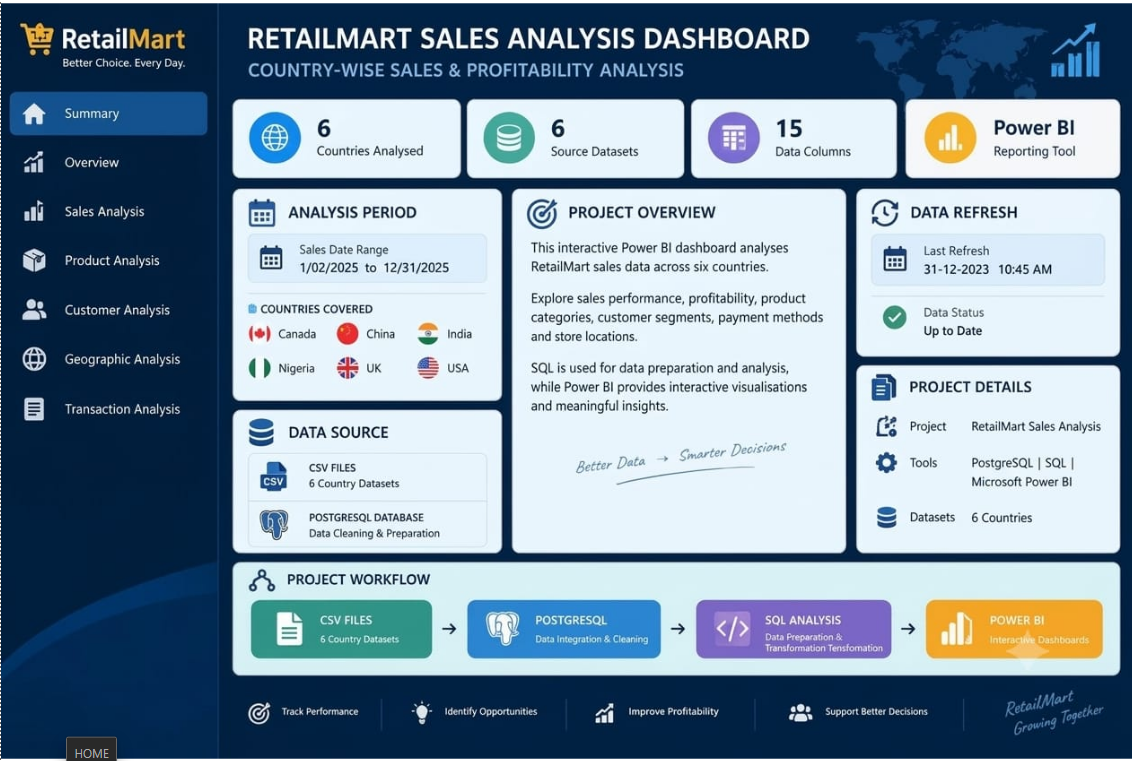

The page's visual inventory and layout, read from the dashboard file:
{"tool":"powerbi","page":{"name":"SUMMARY","canvas":[1000,700],"ordinal":0},"visuals":[{"type":"image","box":[0,0,999.7,700],"z":0}]}

Visuals, with their boxes on the page's 1000x700 design canvas (x1, y1, x2, y2). These are canvas units, not pixel positions in the 1132x761 screenshot, which may show the page scaled, cropped or inside an application window:
image: box=[0, 0, 1000, 700]
